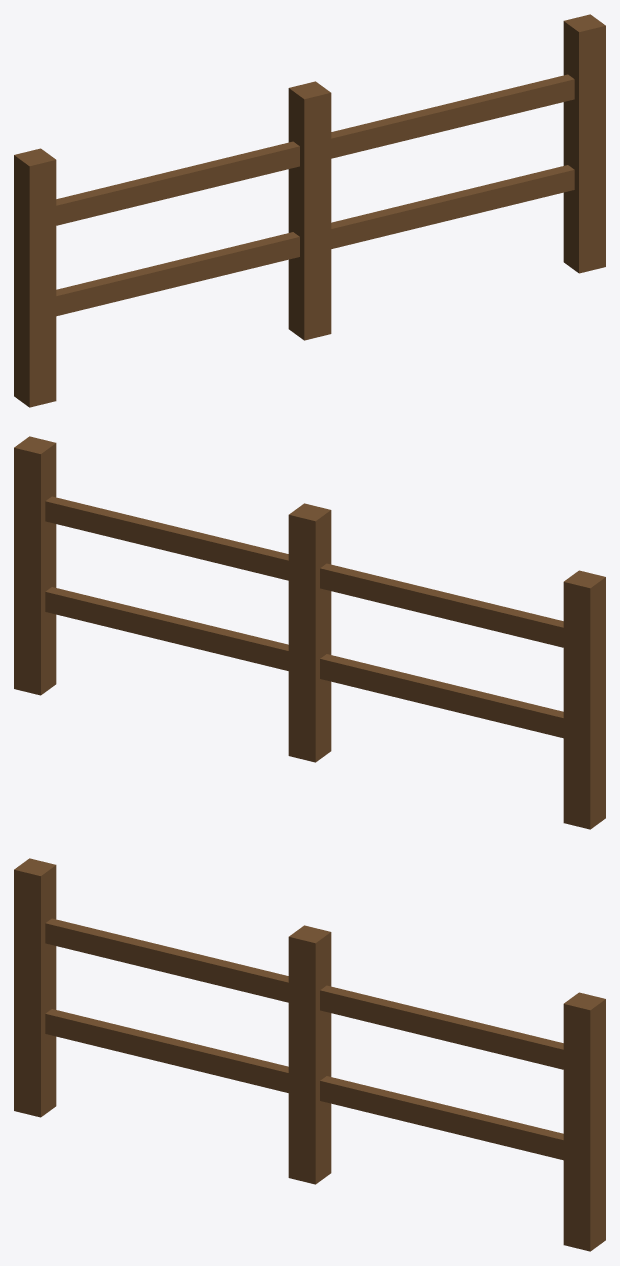
The model's file is fence.glb.
3 views of the same model, one above another, from view 1: azimuth 30°, elevation 25°; view 2: azimuth 150°, elevation 25°; view 3: azimuth 330°, elevation 25° (orthographic).
Visible parts, largest first — view 1: fence; view 2: fence; view 3: fence.
Part boxes in pixels (bbox=[...]): fence: bbox=[14, 14, 605, 407]; fence: bbox=[14, 436, 605, 829]; fence: bbox=[14, 858, 605, 1251].
Size of the model in its own units: 3 by 1.2 by 0.14.
